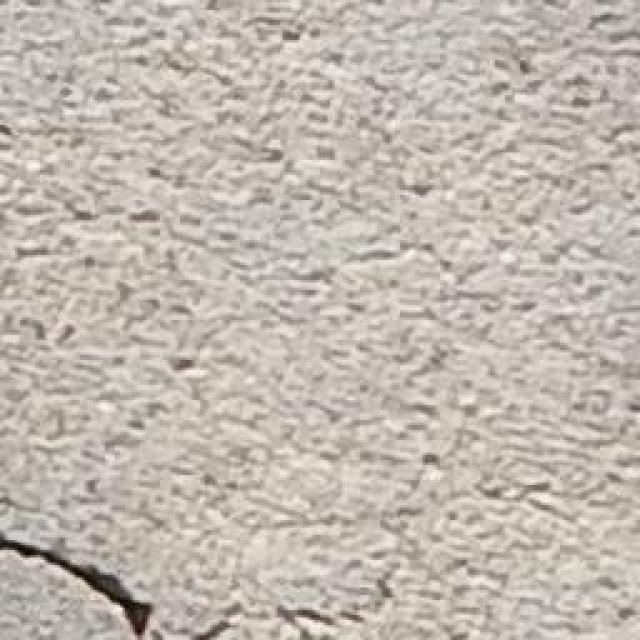concrete-crack: (1, 531, 163, 640)
